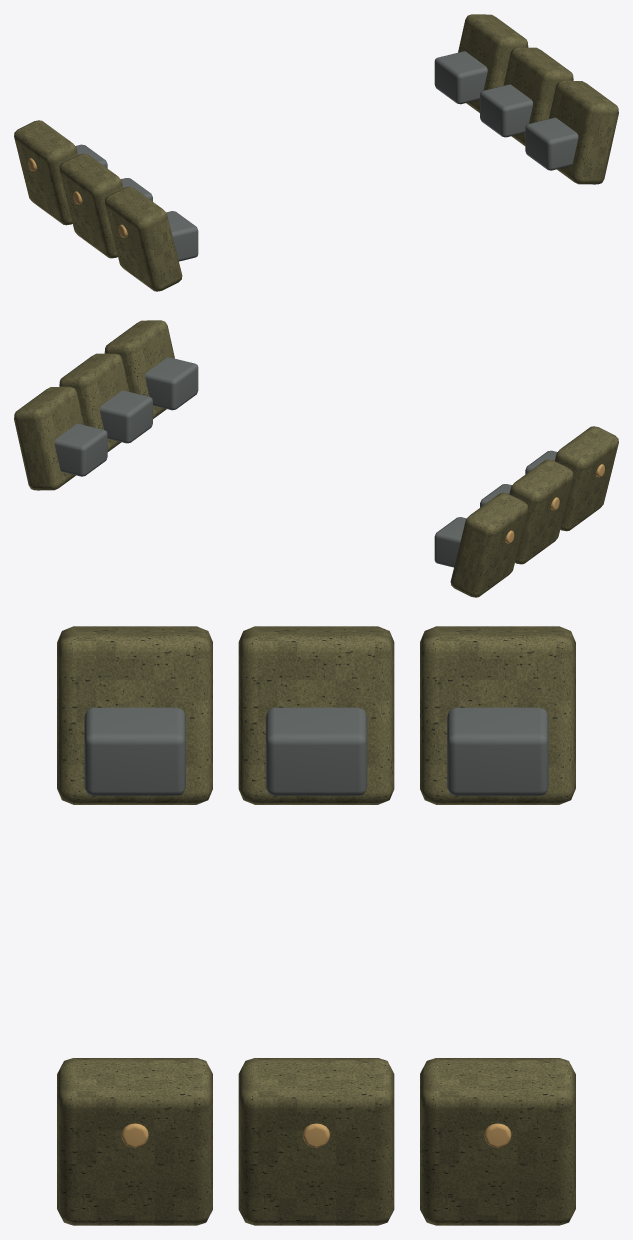
The model's file is STK-A03.fbx.
3 renders of one model, top to bottom at view 1: azimuth 30°, elevation 25°; view 2: azimuth 150°, elevation 25°; view 3: azimuth 270°, elevation 25°, orthographic. The views are drawn at different scales.
Parts seen in each view (by area): view 1: STK-A03_Armor, STK-A03_Steel; view 2: STK-A03_Armor, STK-A03_Steel; view 3: STK-A03_Armor, STK-A03_Steel, STK-A03_Brass.
Boxes of the visible parts, x1=… form: STK-A03_Armor: x1=14, y1=14, x2=618, y2=291; STK-A03_Steel: x1=75, y1=51, x2=578, y2=261; STK-A03_Armor: x1=14, y1=320, x2=618, y2=597; STK-A03_Steel: x1=54, y1=357, x2=557, y2=567; STK-A03_Armor: x1=57, y1=626, x2=575, y2=1225; STK-A03_Steel: x1=84, y1=707, x2=548, y2=795; STK-A03_Brass: x1=121, y1=1123, x2=511, y2=1148.
Bounding box in the file's own units: 307 × 49.24 × 143.
